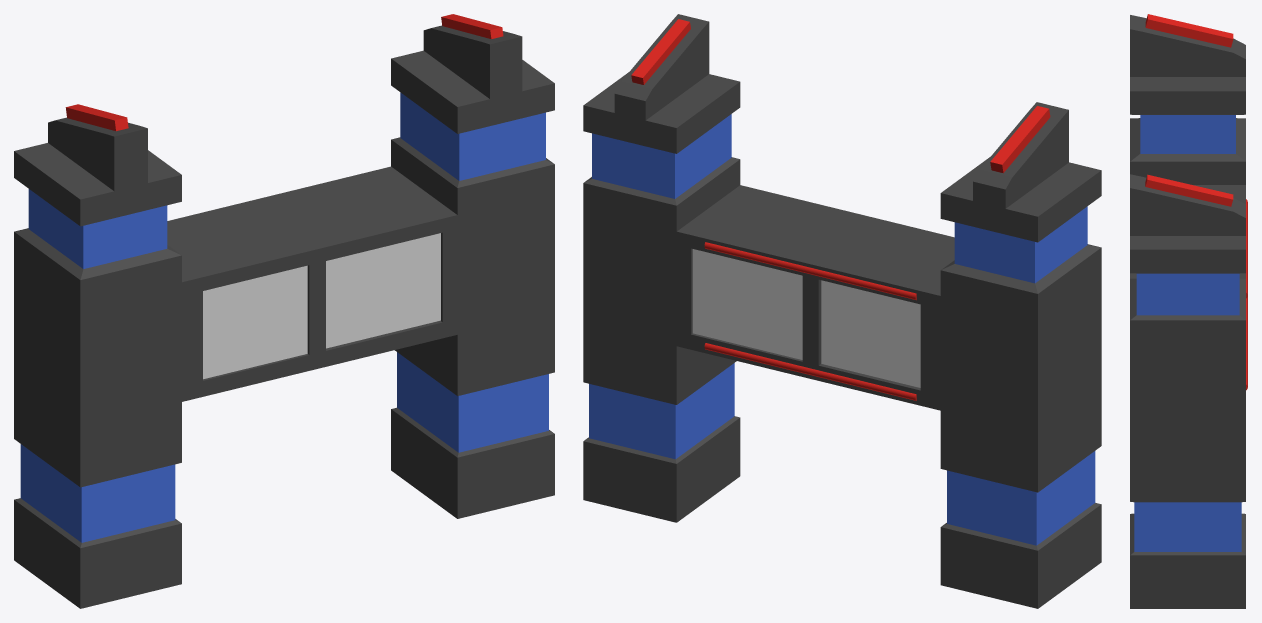
File: BridgeBuilding.fbx
The picture shows the model from 3 angles, left to right: view 1: azimuth 30°, elevation 25°; view 2: azimuth 150°, elevation 25°; view 3: azimuth 270°, elevation 25°; orthographic projection. The views are drawn at different scales.
Visible parts, largest first — view 1: Cylinder; view 2: Cylinder; view 3: Cylinder.
Boxes of the visible parts, x1,y1,x2,y2 form: Cylinder: (14, 14, 554, 608); Cylinder: (583, 14, 1101, 608); Cylinder: (1130, 14, 1247, 608).
Bounding box in the file's own units: 12.39 × 3.05 × 11.78.
